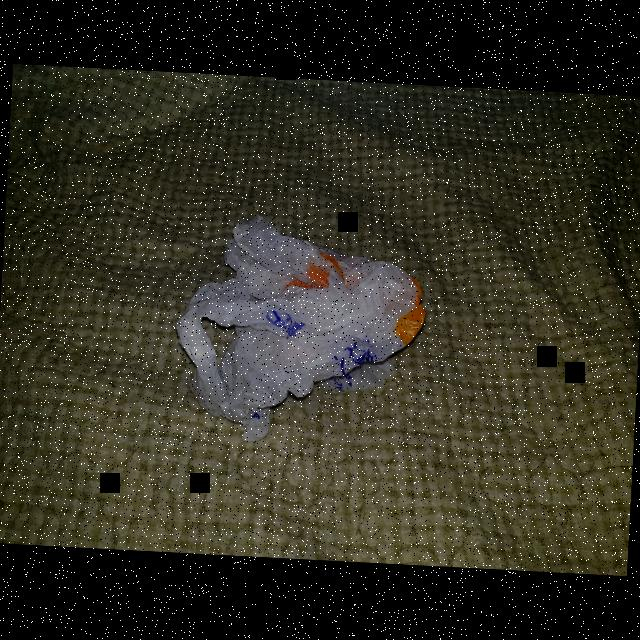plastic_bag: (152, 197, 438, 462)
